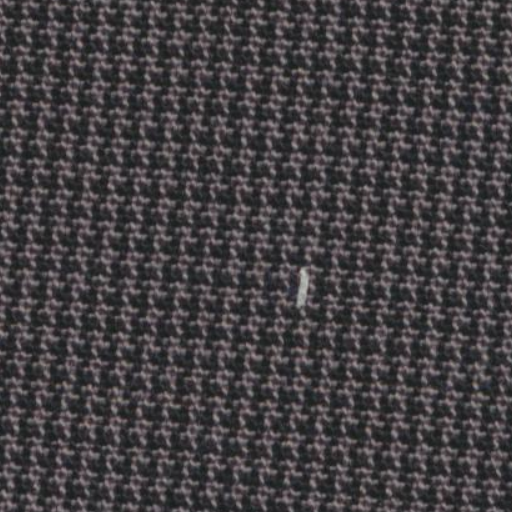DuanSha: (280, 258, 317, 318)
